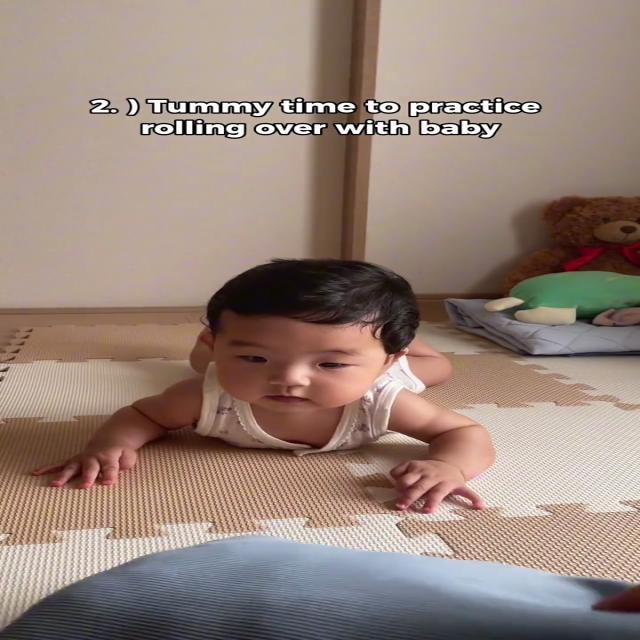baby: (31, 252, 534, 519)
